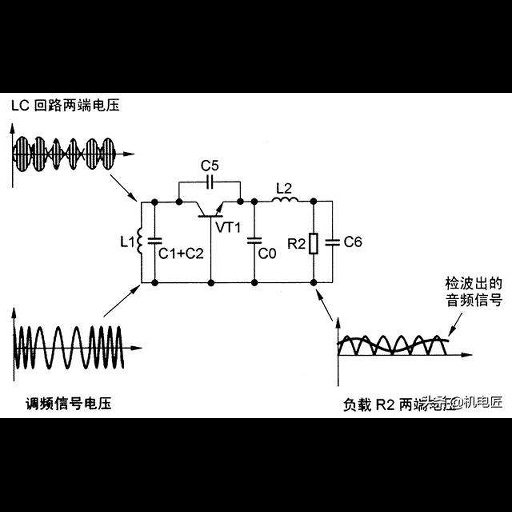capacitor: (201, 174, 220, 190), (243, 234, 265, 246), (147, 233, 165, 247), (323, 236, 341, 249)
firstresistance: (307, 230, 320, 258)
inductor: (135, 220, 146, 259), (265, 195, 303, 204)
npn: (191, 197, 228, 220)
